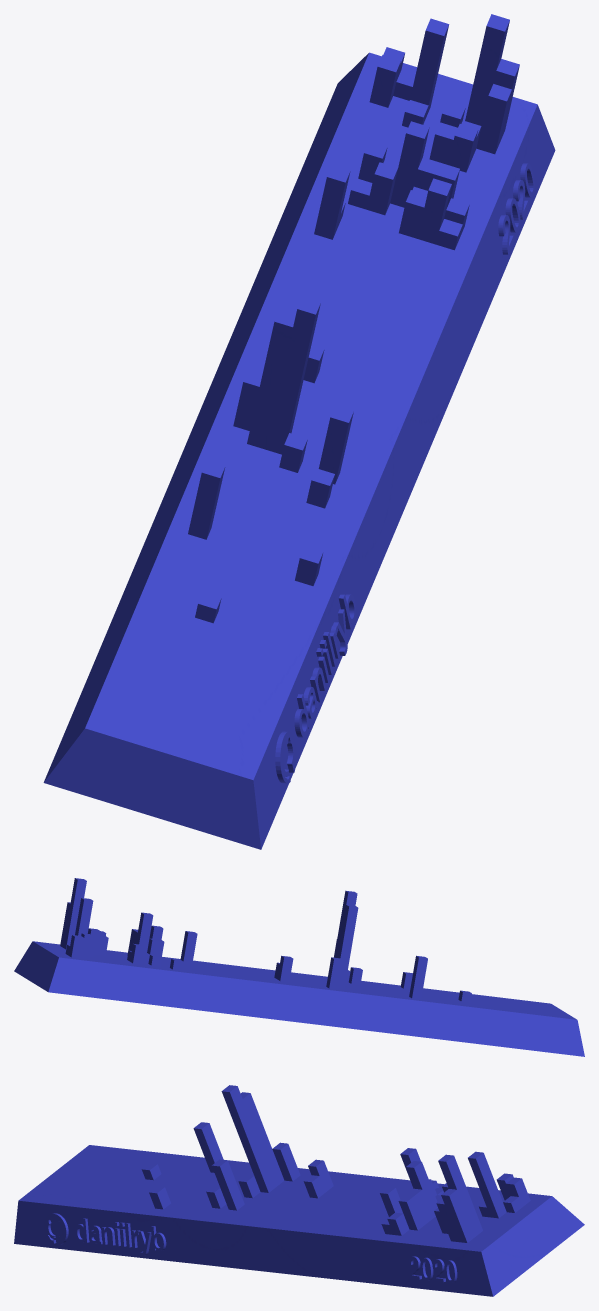
File: daniilryb-2020.glb
The picture shows the model from 3 angles, top to bottom: view 1: azimuth 30°, elevation 25°; view 2: azimuth 150°, elevation 25°; view 3: azimuth 270°, elevation 25°; orthographic projection. The views are drawn at different scales.
Parts seen in each view (by area): view 1: node_id3; view 2: node_id3; view 3: node_id3.
Boxes of the visible parts, x1,y1,x2,y2 form: node_id3: (43,14,555,849); node_id3: (14,878,584,1056); node_id3: (14,1085,584,1296).
Bounding box in the file's own units: 0.4279 × 0.2129 × 0.416.
1 material, 1 textured.
